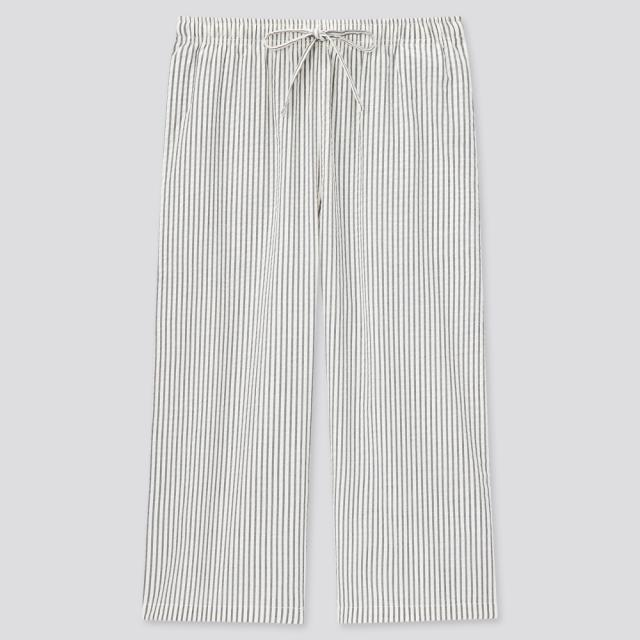long-pants: (141, 15, 509, 632)
